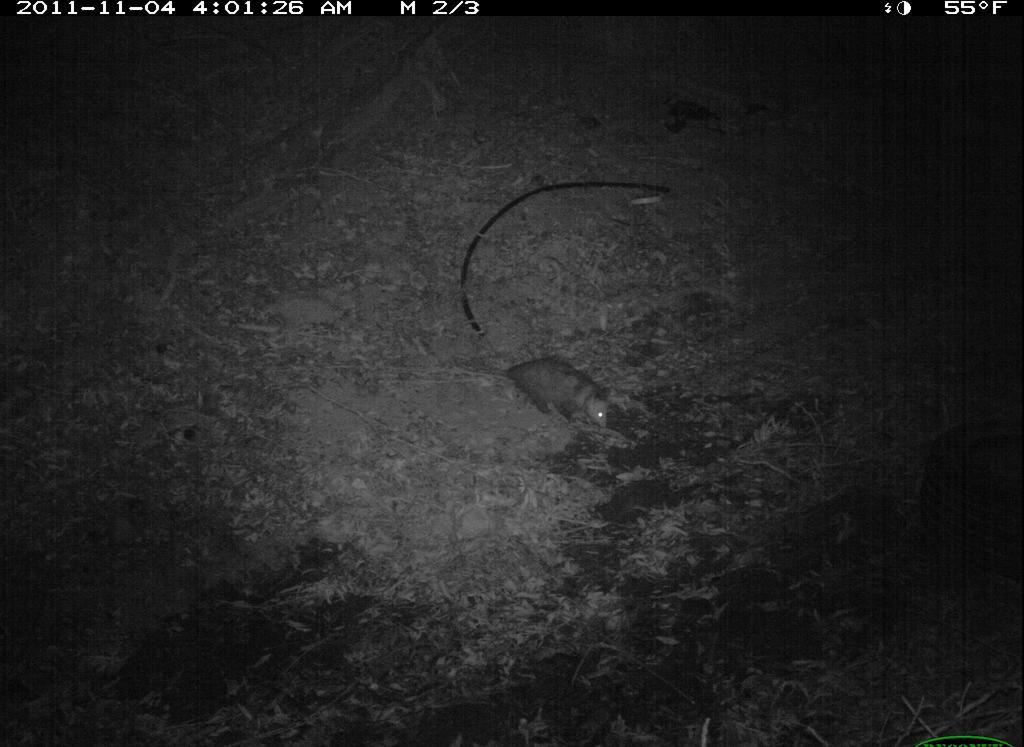opossum: (495, 351, 623, 436)
